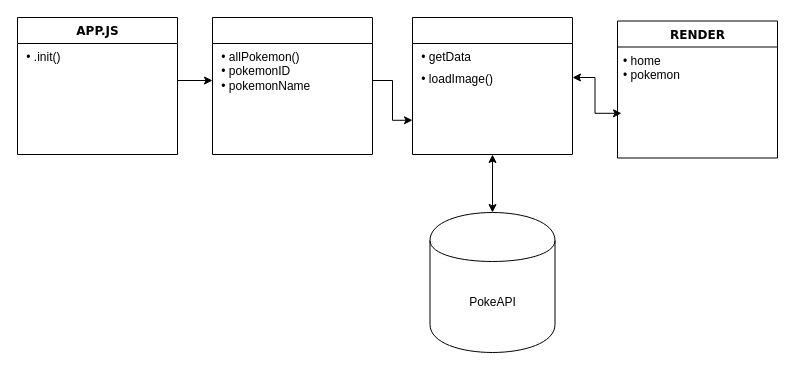
The diagram is 795 pixels wide and 370 high, and some of its shapes have lost their labels. Each missing label, with the box of its shape:
API: (412, 16, 572, 154)
ROUTER: (212, 16, 372, 154)
